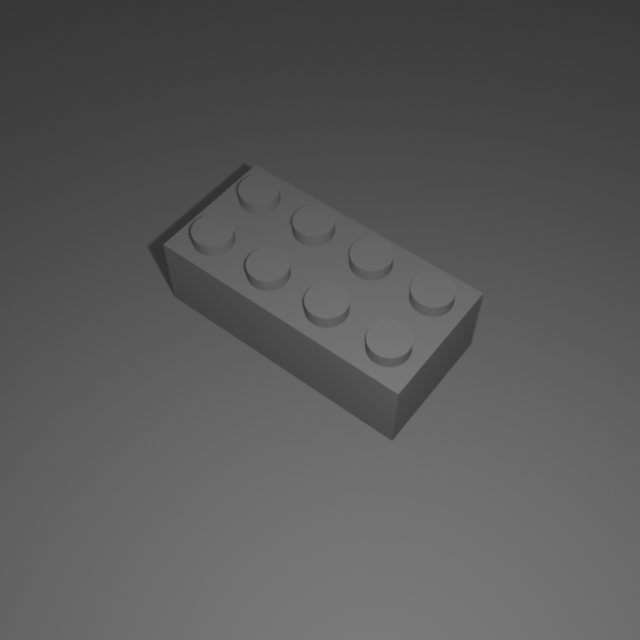lego_2x4: (161, 155, 486, 441)
